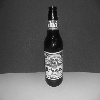beer: (40, 4, 67, 89)
